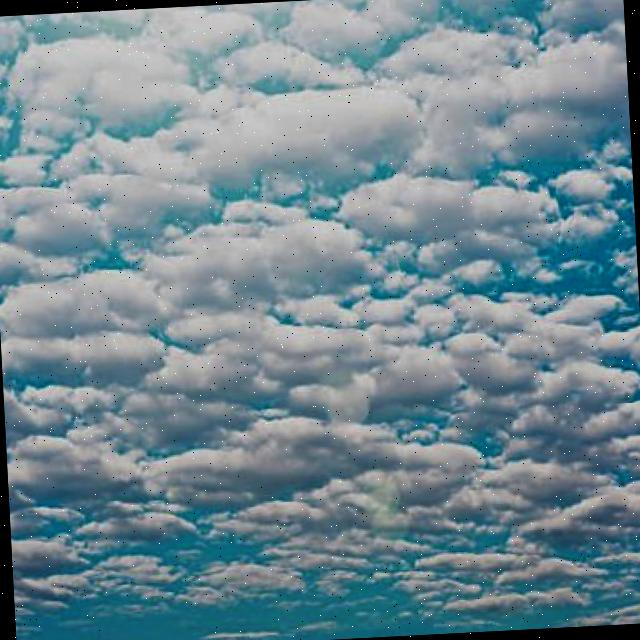Cc: (1, 26, 640, 547)
